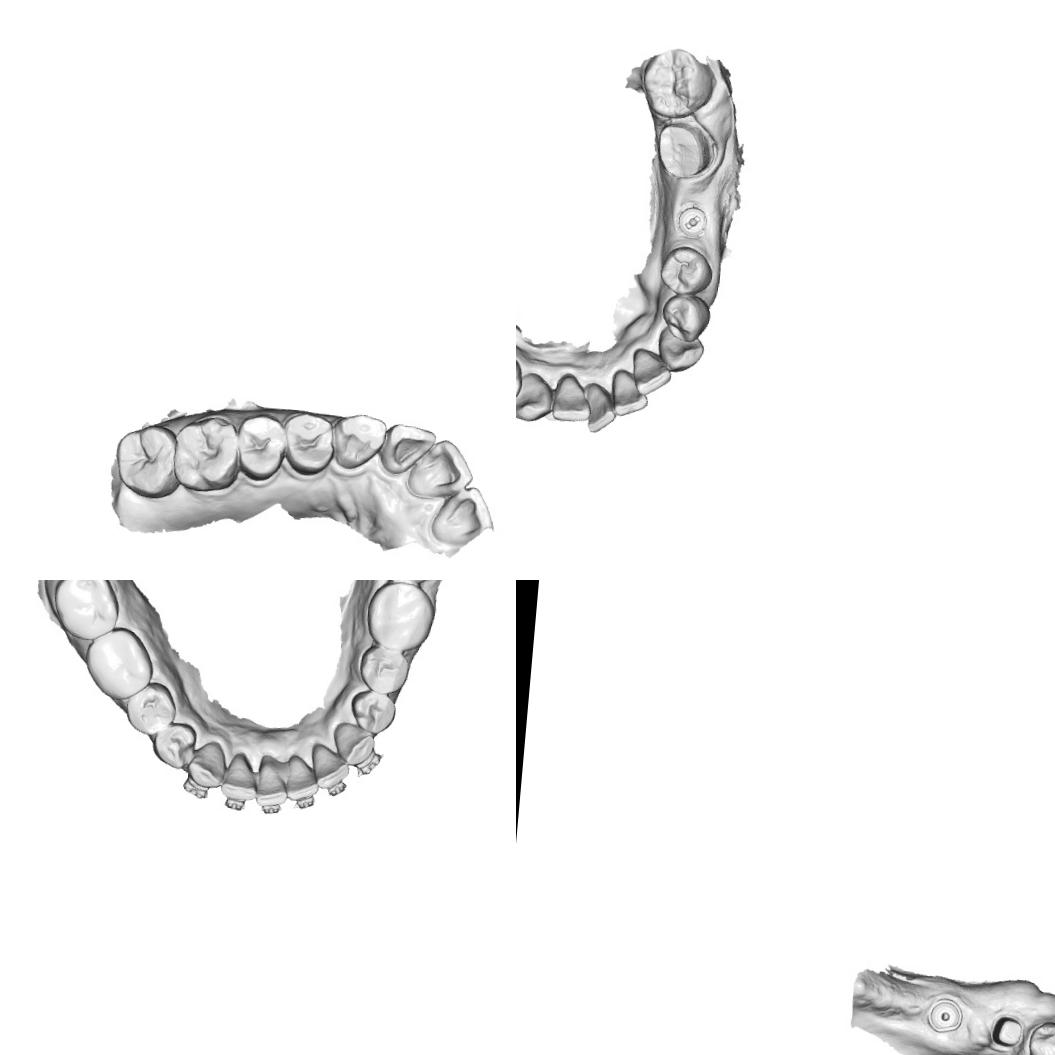abutment: (990, 1012, 1024, 1048)
canine: (328, 408, 389, 473), (654, 322, 706, 375), (182, 736, 228, 793), (330, 719, 378, 768), (516, 367, 552, 425)
crown: (650, 118, 716, 181)
implant: (925, 996, 965, 1034)
implant_minus: (676, 204, 709, 240)
incisor: (404, 434, 476, 503), (427, 482, 498, 548), (376, 419, 440, 479), (626, 344, 674, 399), (306, 739, 352, 792), (550, 370, 595, 424), (607, 366, 651, 418), (217, 749, 258, 803), (579, 380, 618, 436), (282, 751, 322, 804), (252, 758, 290, 808)
molar: (80, 622, 159, 704), (636, 44, 716, 123), (110, 418, 184, 500), (169, 412, 243, 494), (361, 580, 438, 652), (47, 580, 123, 643)
premolar: (232, 412, 288, 485), (279, 409, 336, 478), (123, 678, 180, 739), (654, 243, 716, 298), (656, 290, 712, 346), (354, 644, 413, 696), (148, 718, 200, 771), (346, 686, 398, 735), (1025, 1018, 1055, 1055)
